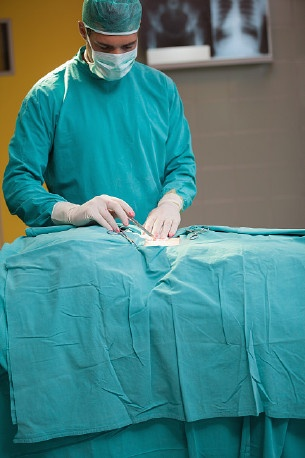Mask: (82, 32, 134, 84)
